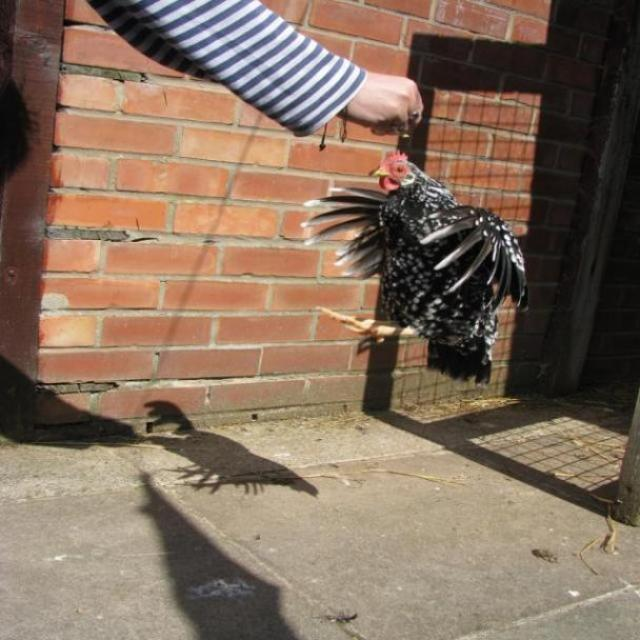Chicken: (300, 139, 527, 410)
